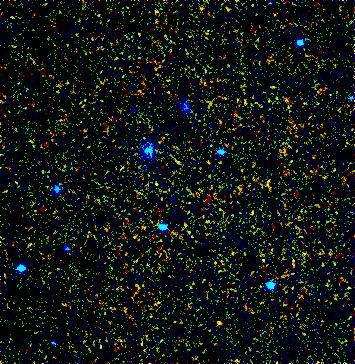star: (117, 103, 147, 133)
